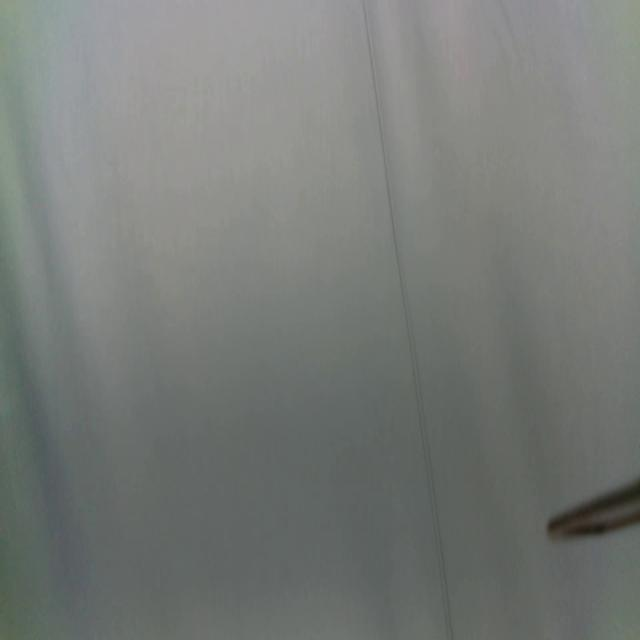crease: (362, 0, 455, 640)
